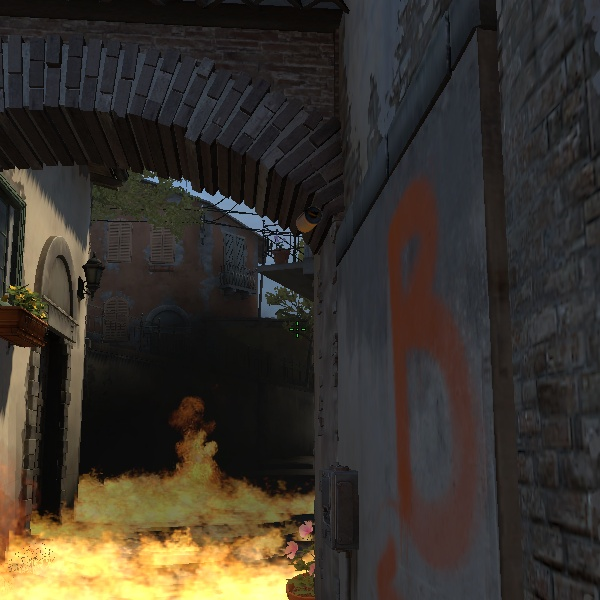t_body: (160, 383, 222, 482)
